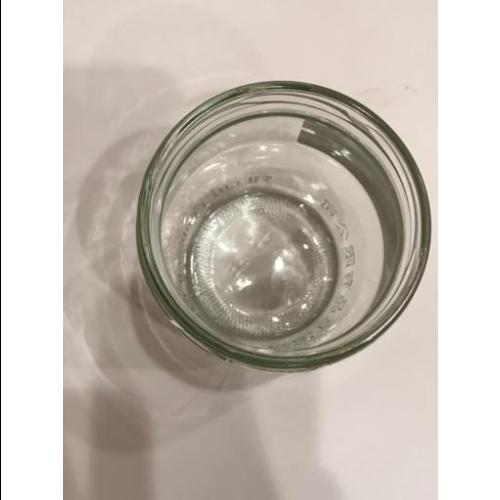glass: (138, 81, 432, 373)
